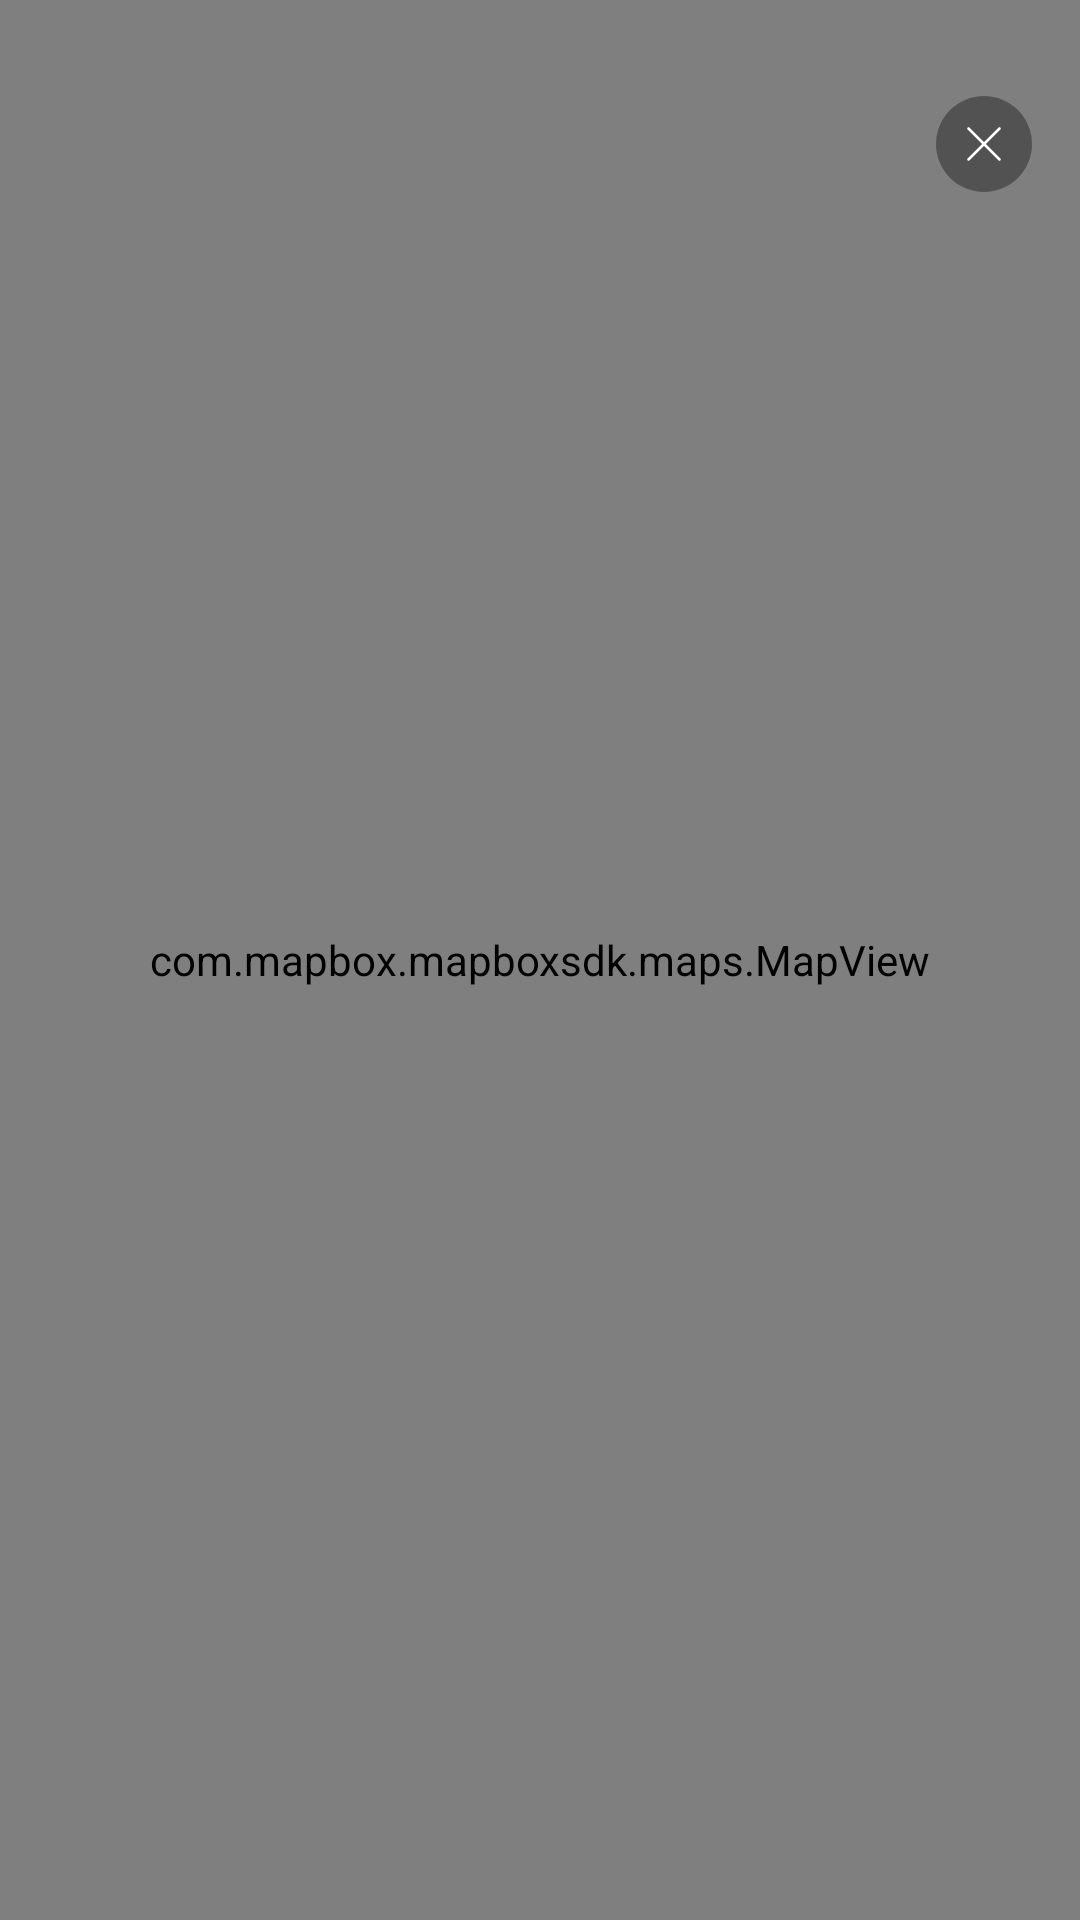

Where to tap for icons on this 1080*1920 app screen, as (x,y):
map close: (984,144)
